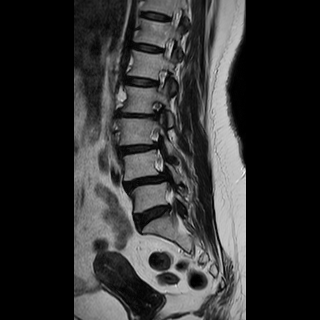RFS0: (144, 64, 174, 96)
